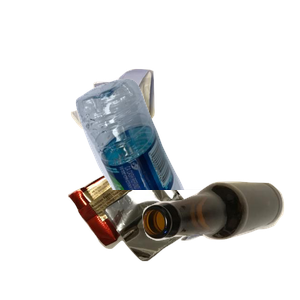glass: (140, 179, 300, 300)
paper: (68, 66, 215, 197)
plastic: (73, 76, 300, 256)
trash: (65, 148, 258, 300)
